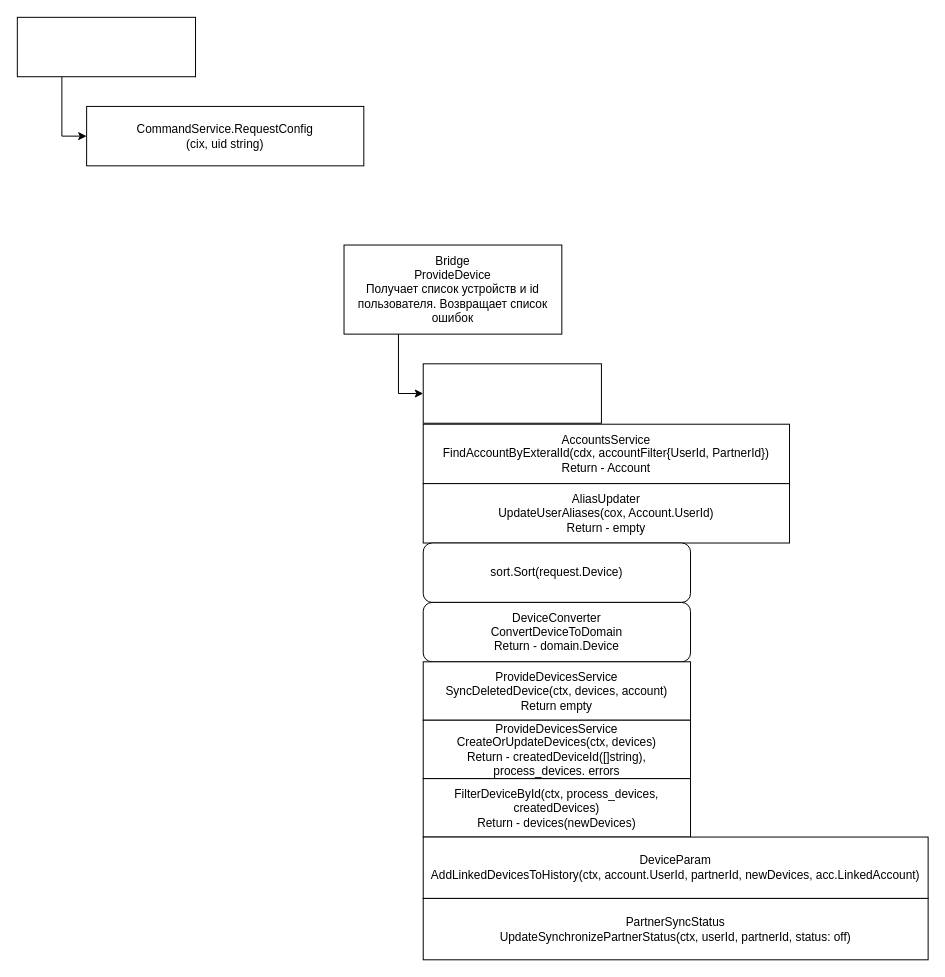
Image size: 945x977. Some labels were removed from this diagram. Here are the shapes that lost their labels. From the top down, the centre of each, then its label:
At (106,46): "Webhook Find Devices".
At (511,393): "expractPartner c ctx возвращает Partner структуру".
